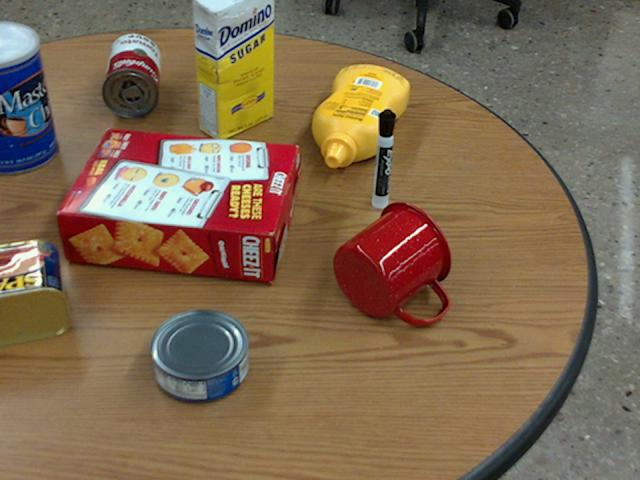cracker_box: (59, 128, 297, 280)
large_marker: (373, 109, 395, 208)
master_chef_can: (0, 21, 58, 173)
mug: (334, 201, 453, 323)
mustard_bottle: (312, 66, 408, 167)
potted_meat_can: (0, 237, 68, 344)
sugar_box: (194, 0, 274, 141)
tomato_soup_can: (102, 34, 159, 117)
tuna_fish_can: (148, 308, 247, 401)
